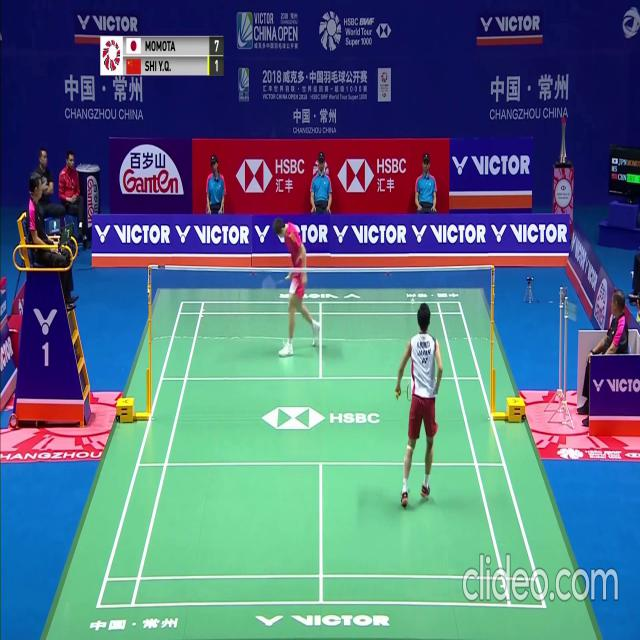Shuttlecock: (410, 297, 414, 304)
